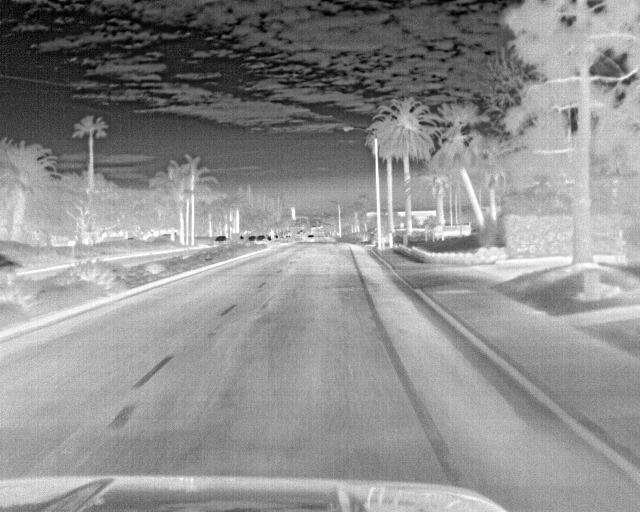car: (0, 251, 23, 283), (212, 235, 228, 247), (253, 234, 267, 246), (306, 233, 315, 243)
